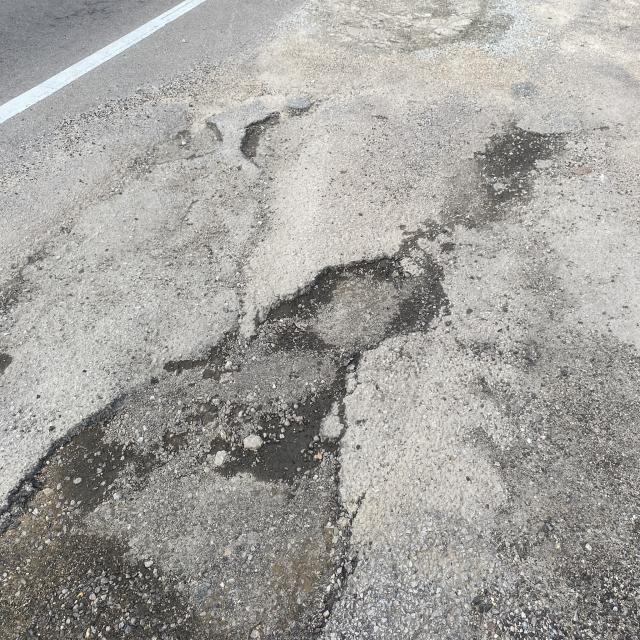pothole: (271, 244, 444, 406), (207, 108, 375, 226)
